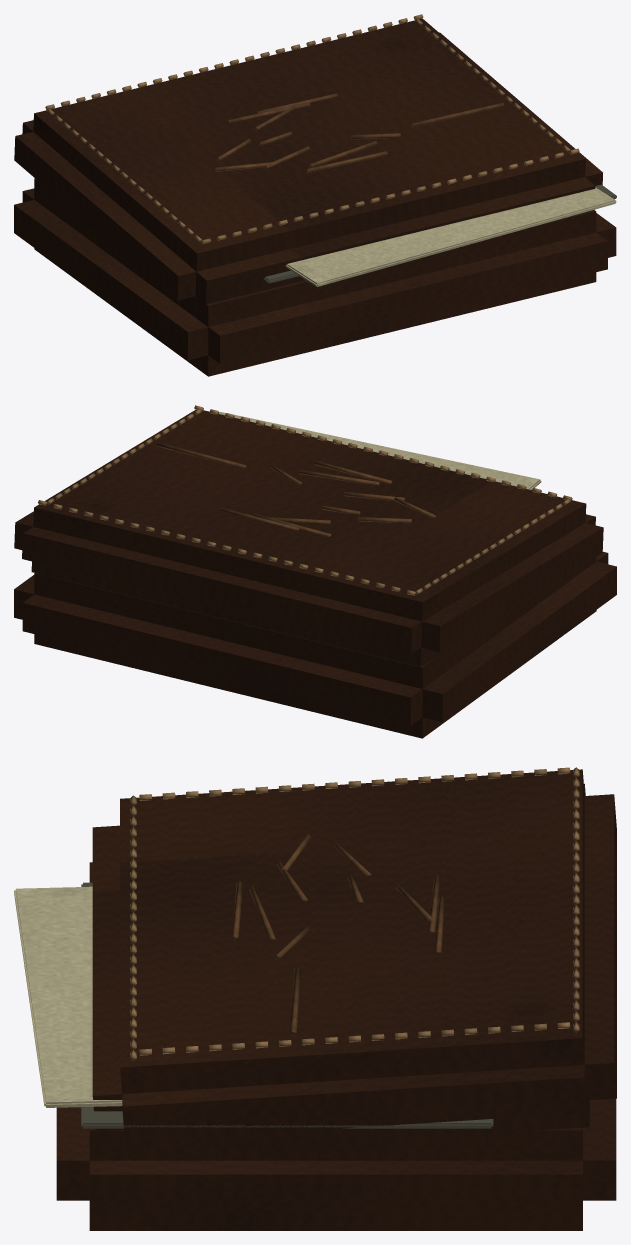
File: creased_leather_wallet.glb
The picture shows the model from 3 angles, top to bottom: view 1: azimuth 30°, elevation 25°; view 2: azimuth 150°, elevation 25°; view 3: azimuth 270°, elevation 25°; orthographic projection. The views are drawn at different scales.
Visible parts, largest first — view 1: HC02_creased_leather_wallet; view 2: HC02_creased_leather_wallet; view 3: HC02_creased_leather_wallet.
Boxes of the visible parts, x1,y1,x2,y2 form: HC02_creased_leather_wallet: (14,14,616,376); HC02_creased_leather_wallet: (14,405,616,738); HC02_creased_leather_wallet: (14,767,616,1230).
Size of the model in its own units: 0.114 by 0.0363 by 0.098.
Materials: 5 (4 with a texture image).
